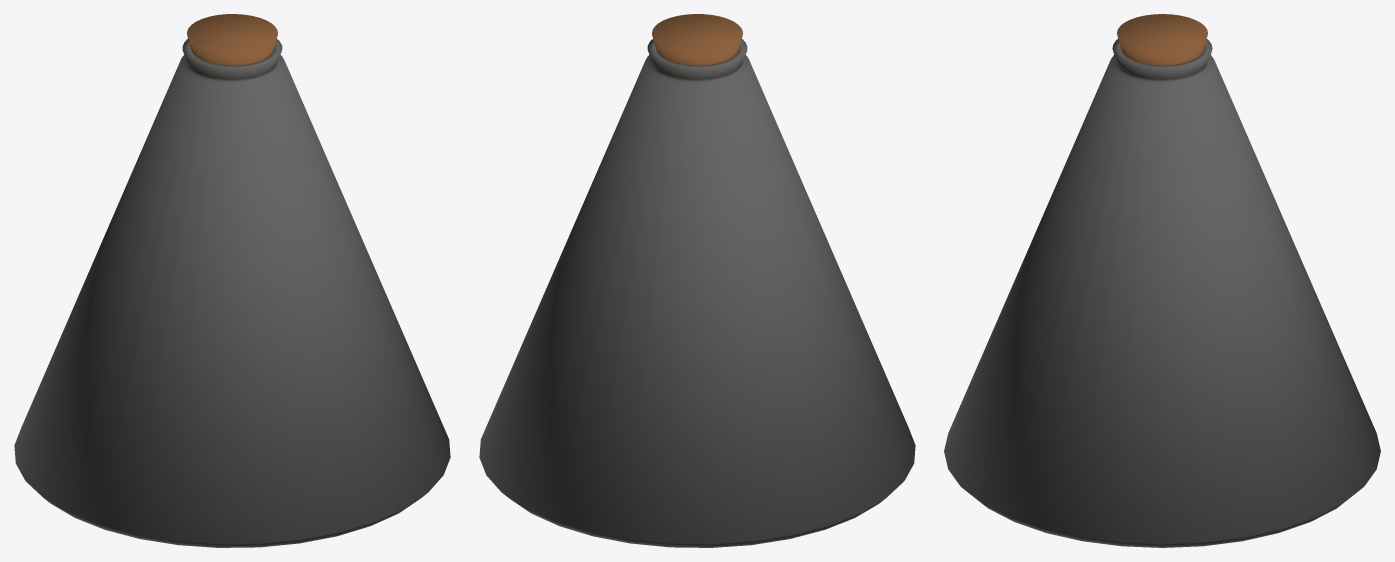
Rendered from Glass 2.fbx.
3 renders of one model, left to right at view 1: azimuth 30°, elevation 25°; view 2: azimuth 150°, elevation 25°; view 3: azimuth 270°, elevation 25°, orthographic.
Parts seen in each view (by area): view 1: Cylinder, Cylinder.002; view 2: Cylinder, Cylinder.002; view 3: Cylinder, Cylinder.002.
Part boxes in pixels (x1,y1,x2,y2): Cylinder: (14,39,450,547); Cylinder.002: (187,14,277,65); Cylinder: (479,39,915,547); Cylinder.002: (652,14,742,65); Cylinder: (944,39,1380,547); Cylinder.002: (1117,14,1207,65).
Size of the model in its own units: 200 by 215 by 200.
